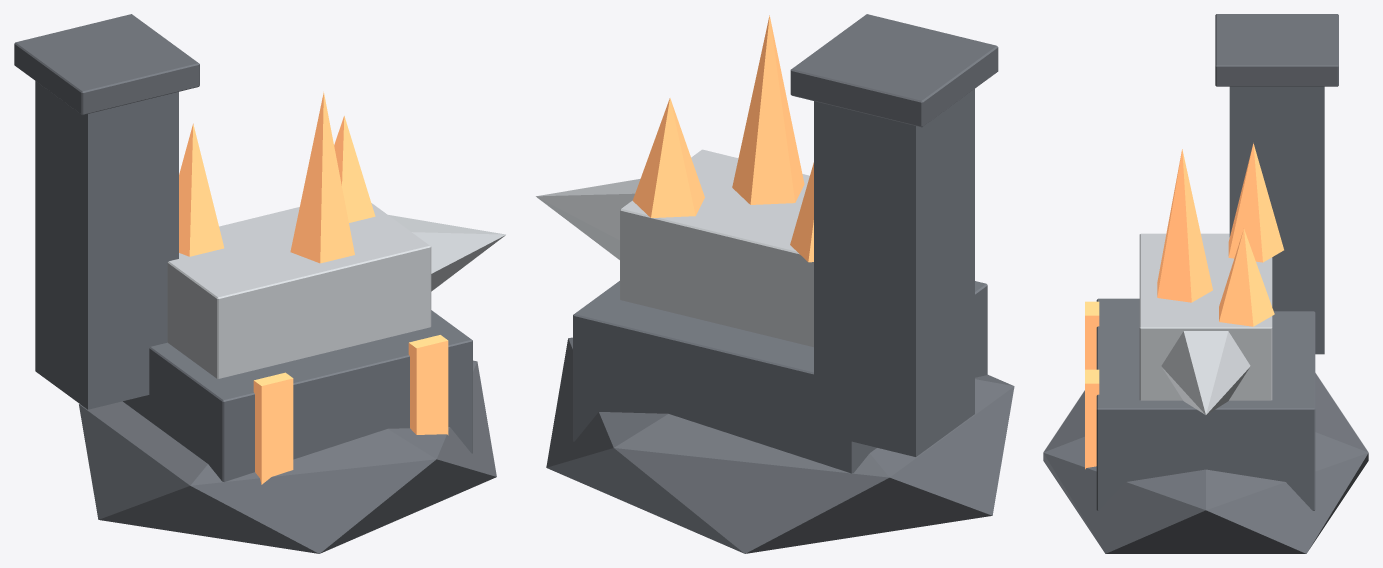
Rendered from volcanic_forge_landmark.glb.
The picture shows the model from 3 angles, left to right: view 1: azimuth 30°, elevation 25°; view 2: azimuth 150°, elevation 25°; view 3: azimuth 270°, elevation 25°; orthographic projection. The views are drawn at different scales.
Parts seen in each view (by area): view 1: basalt_base; view 2: basalt_base; view 3: basalt_base.
Boxes of the visible parts, left/top/right/bottom form: basalt_base: left=14, top=14, right=505, bottom=553; basalt_base: left=536, top=14, right=1014, bottom=553; basalt_base: left=1043, top=14, right=1368, bottom=553.
Size of the model in its own units: 1.84 by 1.96 by 1.37.
